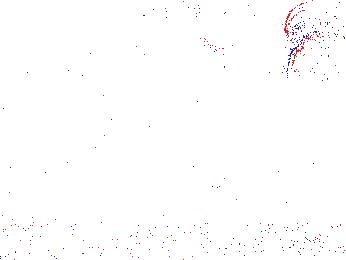moon jellyfish: (134, 11, 194, 99), (132, 1, 209, 61), (286, 32, 346, 106), (284, 1, 346, 65), (194, 6, 246, 55)
